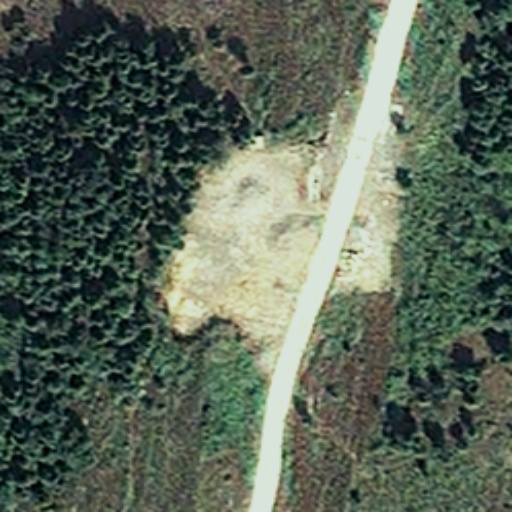landslide: (163, 135, 321, 344)
